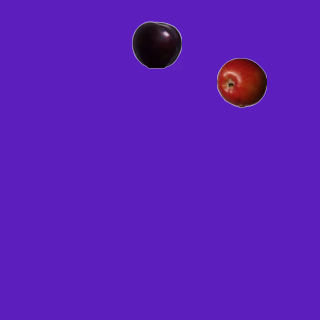Apple Braeburn: (216, 57, 266, 107)
Cherry Wax Black: (131, 19, 181, 69)
